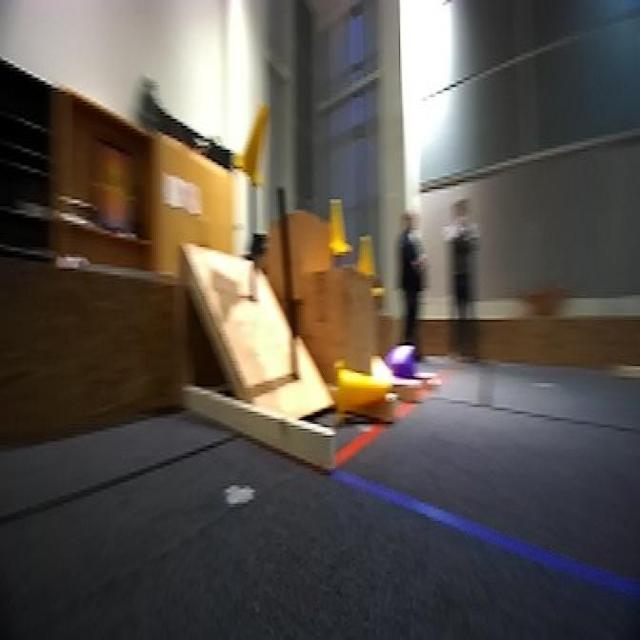frc_cone: (332, 358, 390, 428), (238, 97, 272, 182), (328, 200, 350, 253), (358, 243, 372, 281)
frc_cube: (386, 347, 416, 388)
